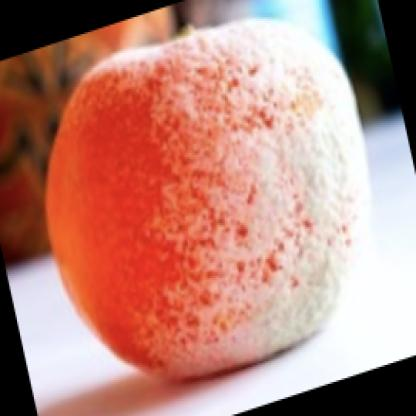rotten: (50, 27, 368, 375)
